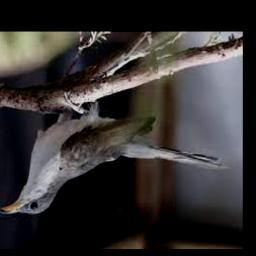Cuckoo: (0, 93, 229, 215)
